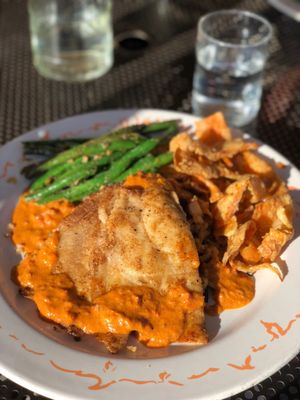pizza: (192, 9, 279, 129)
